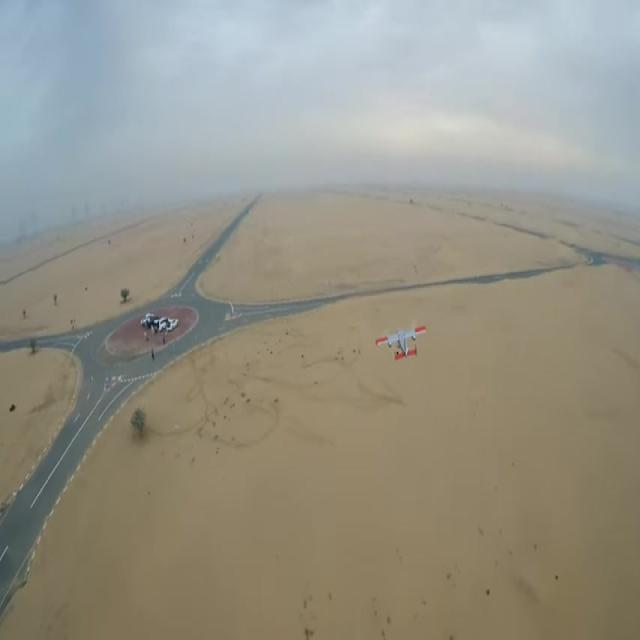iha: (375, 324, 427, 362)
